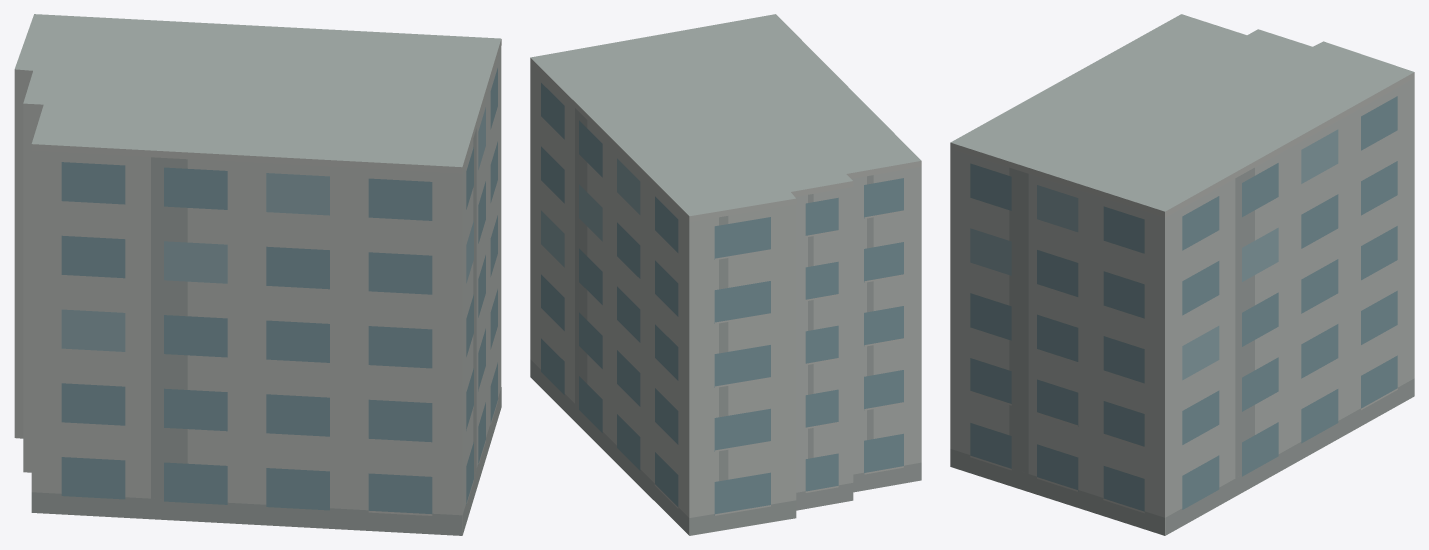
File: survey-upis-32801237.glb
3 views of the same model, side by side, from view 1: azimuth 30°, elevation 25°; view 2: azimuth 150°, elevation 25°; view 3: azimuth 270°, elevation 25° (orthographic). The views are drawn at different scales.
Parts seen in each view (by area): view 1: survey-upis-32801237.tmp; view 2: survey-upis-32801237.tmp; view 3: survey-upis-32801237.tmp.
Part boxes in pixels (left/top/right/bottom): survey-upis-32801237.tmp: left=14, top=14, right=501, bottom=535; survey-upis-32801237.tmp: left=530, top=14, right=921, bottom=535; survey-upis-32801237.tmp: left=950, top=14, right=1414, bottom=535.
Size of the model in its own units: 17.27 by 13.2 by 17.14.
